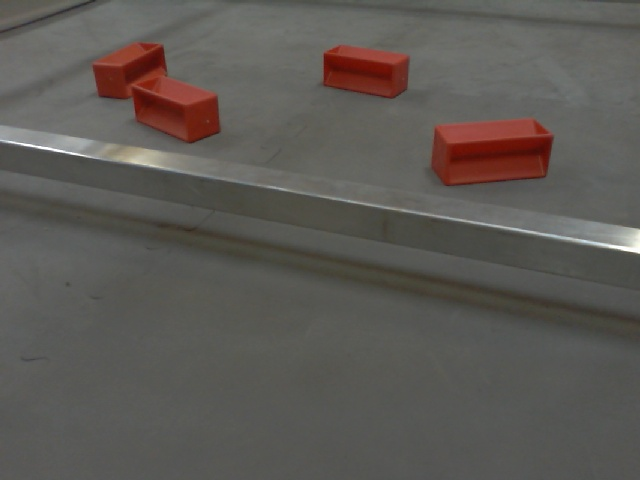RedSample: (428, 117, 551, 185), (128, 73, 223, 143), (321, 42, 413, 102), (91, 40, 173, 98)
